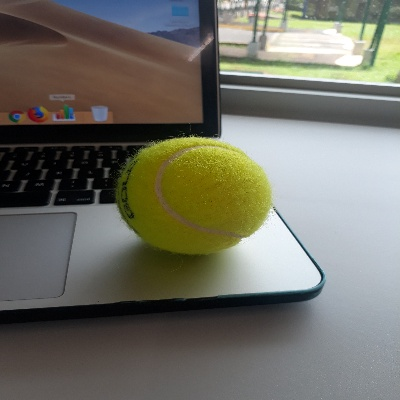Ball: (114, 131, 272, 255)
